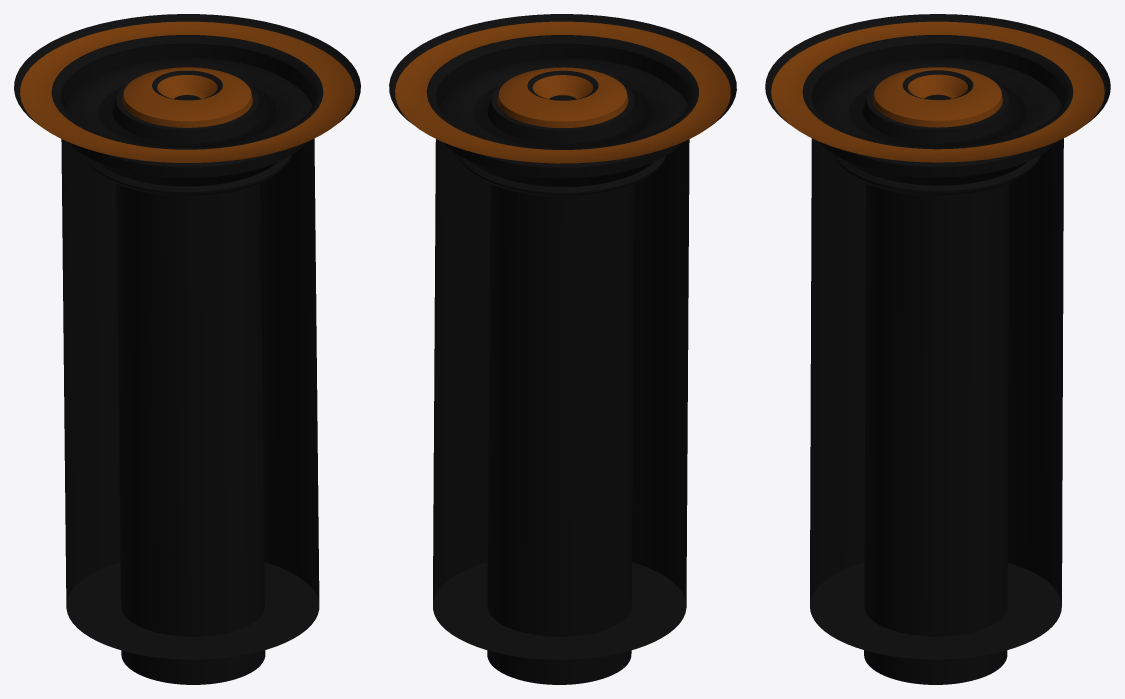
The model's file is Waterlock_Door_C.FBX.
3 views of the same model, side by side, from view 1: azimuth 30°, elevation 25°; view 2: azimuth 150°, elevation 25°; view 3: azimuth 270°, elevation 25° (orthographic).
Parts seen in each view (by area): view 1: Waterlock_Door_A; view 2: Waterlock_Door_A; view 3: Waterlock_Door_A.
Part boxes in pixels (bbox=[...]): Waterlock_Door_A: bbox=[14, 14, 360, 684]; Waterlock_Door_A: bbox=[389, 14, 736, 684]; Waterlock_Door_A: bbox=[765, 14, 1110, 684].
Size of the model in its own units: 3.87 by 7.01 by 3.87.
